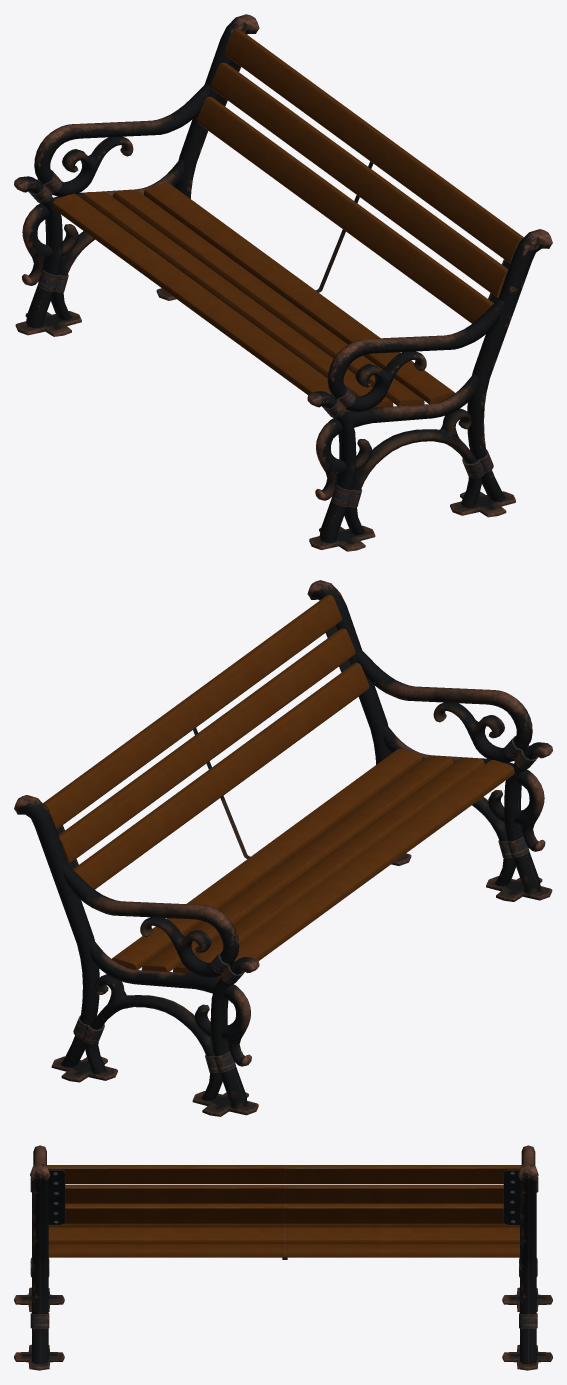
File: benchs.glb
3 views of the same model, one above another, from view 1: azimuth 30°, elevation 25°; view 2: azimuth 150°, elevation 25°; view 3: azimuth 270°, elevation 25° (orthographic). The views are drawn at different scales.
Parts seen in each view (by area): view 1: bench; view 2: bench; view 3: bench.
Boxes of the visible parts, x1,y1,x2,y2 form: bench: (14,14,552,551); bench: (14,580,552,1116); bench: (14,1145,552,1370).
Bounding box in the file's own units: 1.29 × 1.33 × 3.
Materials: 1 (1 with a texture image).
